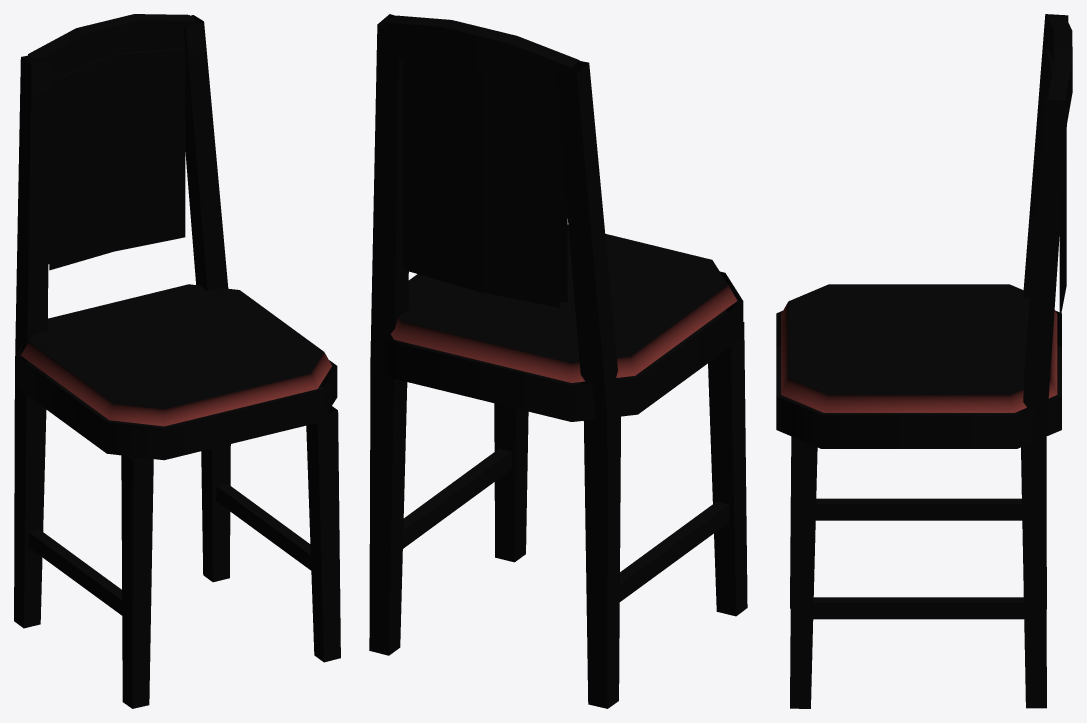
File: dining_chair.glb
3 renders of one model, left to right at view 1: azimuth 30°, elevation 25°; view 2: azimuth 150°, elevation 25°; view 3: azimuth 270°, elevation 25°, orthographic. The views are drawn at different scales.
Visible parts, largest first — view 1: wood, cover; view 2: wood, cover; view 3: wood, cover.
Part boxes in pixels (bbox=[...]): wood: bbox=[14, 14, 340, 708]; cover: bbox=[21, 48, 331, 426]; wood: bbox=[369, 14, 747, 708]; cover: bbox=[391, 59, 737, 382]; wood: bbox=[776, 14, 1072, 708]; cover: bbox=[781, 49, 1066, 412].
Size of the model in its own units: 0.38 by 0.8929 by 0.3941.
